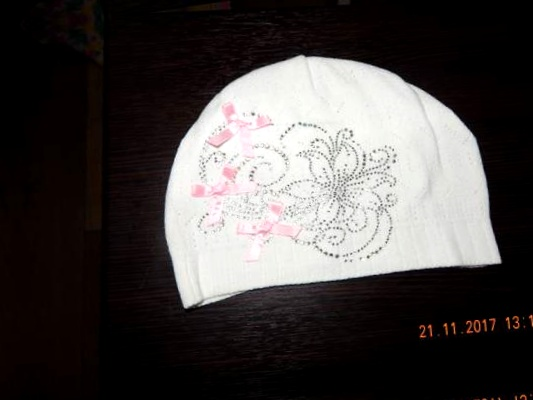Hat: (111, 6, 533, 342)
